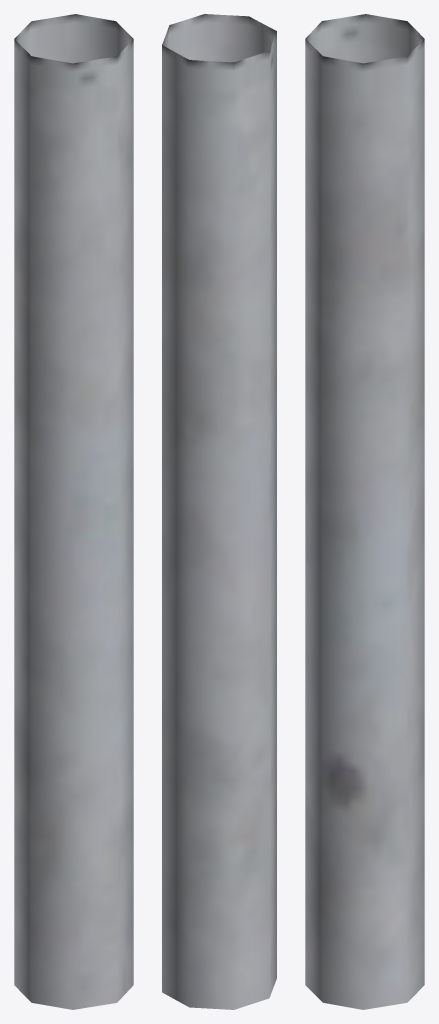
File: SM_Pipe_25_Straight_01a.glb
3 renders of one model, left to right at view 1: azimuth 90°, elevation 25°; view 2: azimuth 150°, elevation 25°; view 3: azimuth 270°, elevation 25°, orthographic.
Visible parts, largest first — view 1: SM_Pipe_25_Straight_01a; view 2: SM_Pipe_25_Straight_01a; view 3: SM_Pipe_25_Straight_01a.
Boxes of the visible parts, bbox=[...] form: SM_Pipe_25_Straight_01a: bbox=[14, 14, 133, 1009]; SM_Pipe_25_Straight_01a: bbox=[162, 14, 276, 1009]; SM_Pipe_25_Straight_01a: bbox=[305, 14, 424, 1009].
Bounding box in the file's own units: 0.028 × 0.25 × 0.0285.
1 material, 1 textured.
